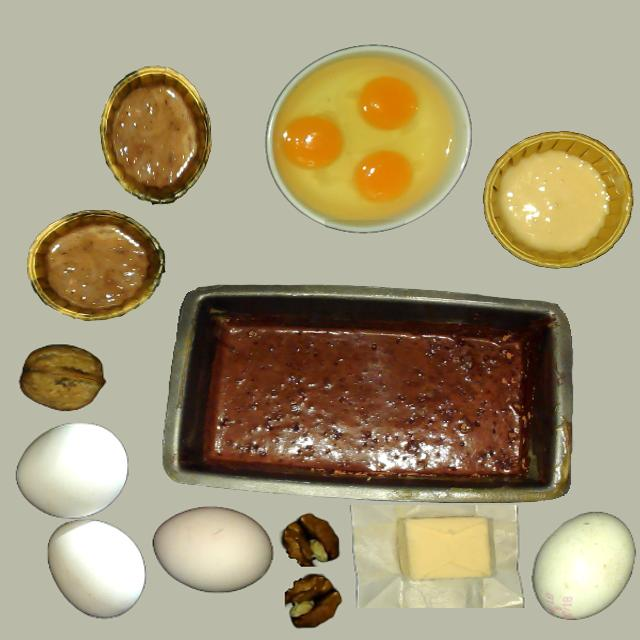Egg: (320, 139, 432, 241), (258, 88, 359, 194), (350, 37, 443, 135)
Walnut: (3, 336, 113, 438)
